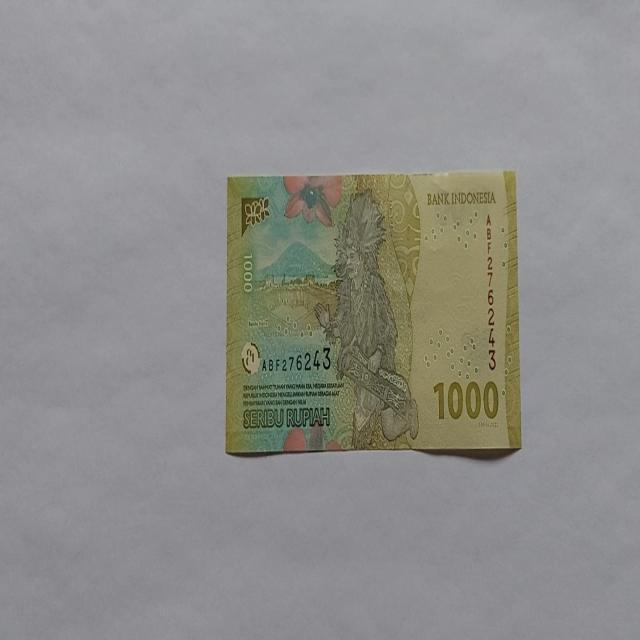seribu rupiah kertas: (224, 169, 522, 456)
